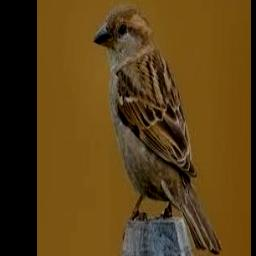Sparrow: (93, 4, 223, 253)
